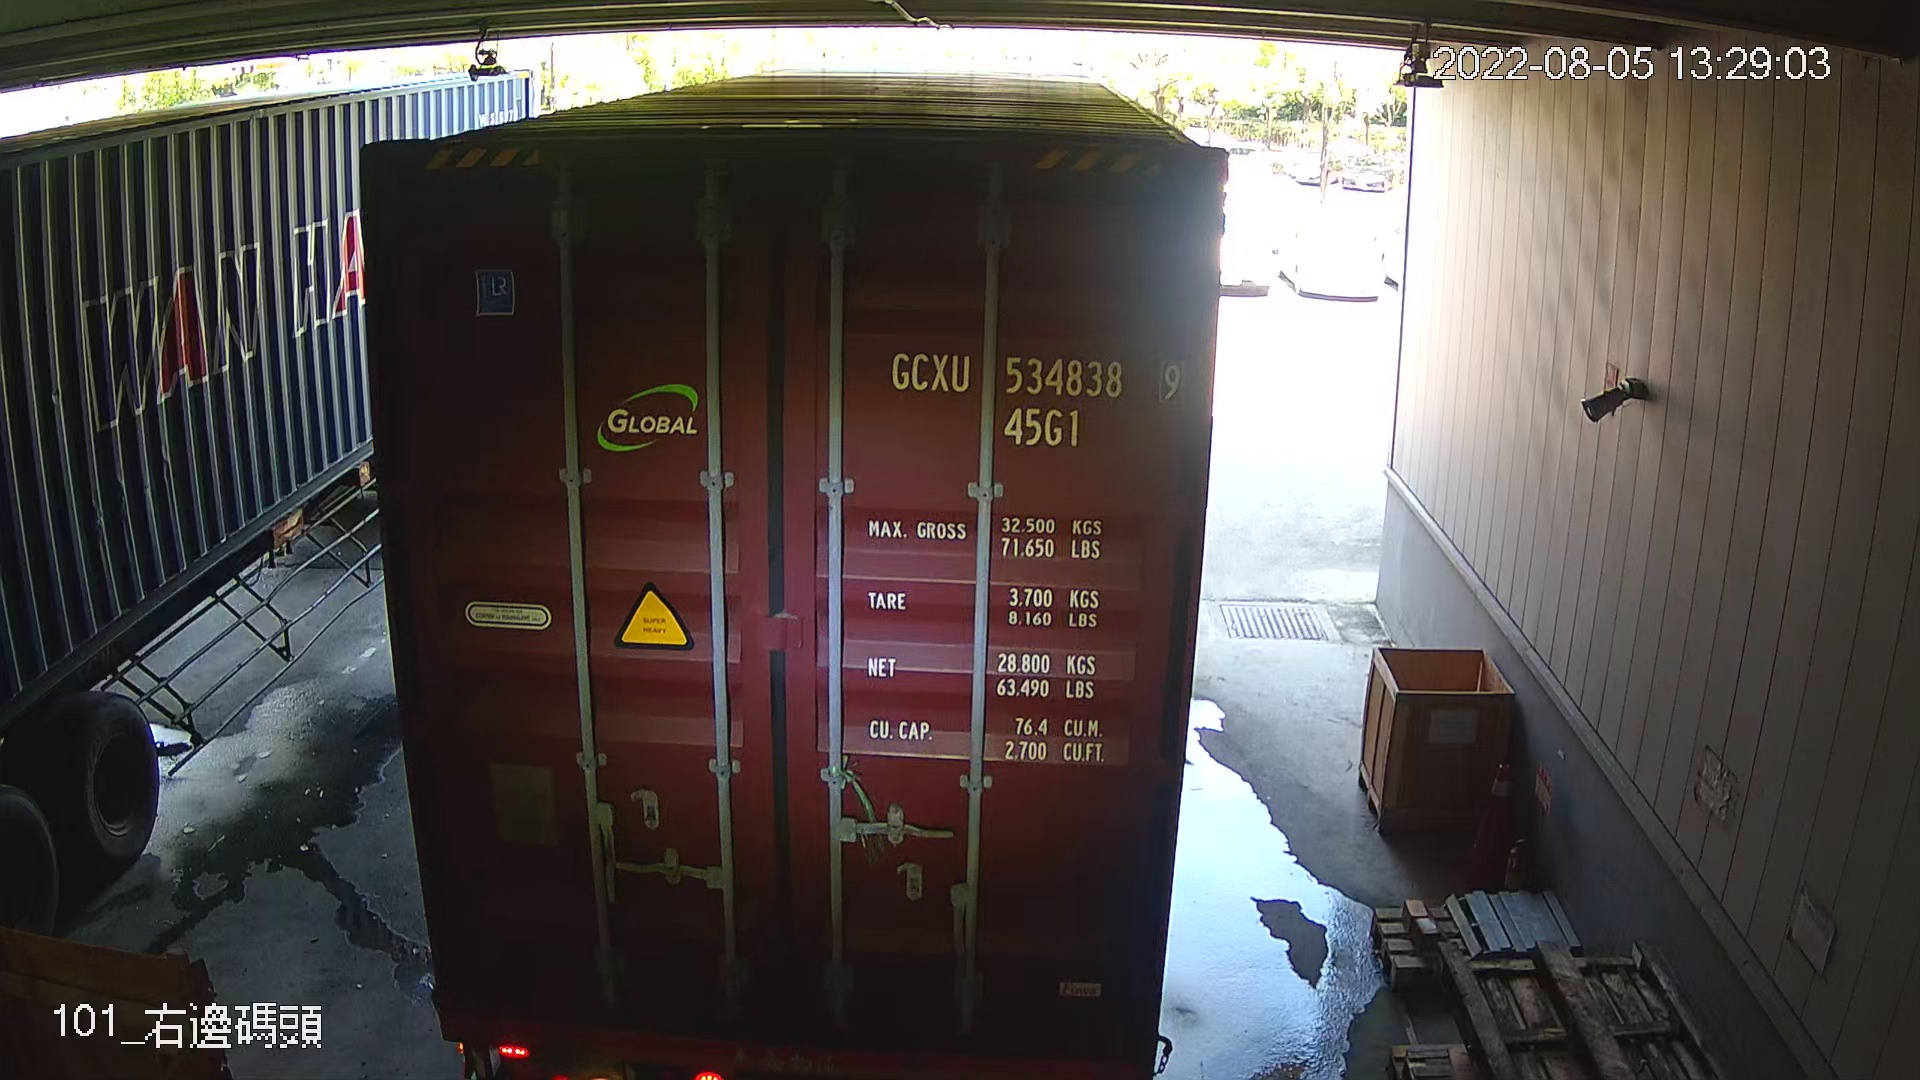container: (876, 327, 1188, 465)
